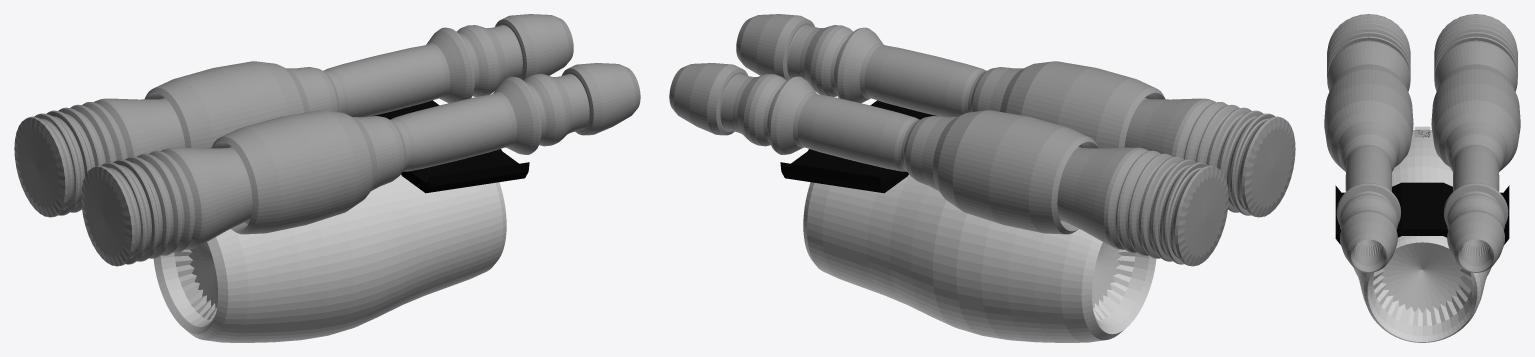
File: arm_armor.fbx
3 views of the same model, side by side, from view 1: azimuth 30°, elevation 25°; view 2: azimuth 150°, elevation 25°; view 3: azimuth 270°, elevation 25° (orthographic). The views are drawn at different scales.
Visible parts, largest first — view 1: Cylinder.001, Cylinder, Cube; view 2: Cylinder.001, Cylinder, Cube; view 3: Cylinder.001, Cylinder, Cube.
Part boxes in pixels (x1,y1,x2,y2): Cylinder.001: (14,14,640,266); Cylinder: (153,174,506,342); Cube: (372,100,529,193); Cylinder.001: (669,14,1295,266); Cylinder: (803,174,1156,342); Cube: (780,100,937,193); Cylinder.001: (1324,14,1520,272); Cylinder: (1353,130,1491,342); Cube: (1335,126,1509,244).
Bounding box in the file's own units: 75.15 × 33.38 × 30.33.
